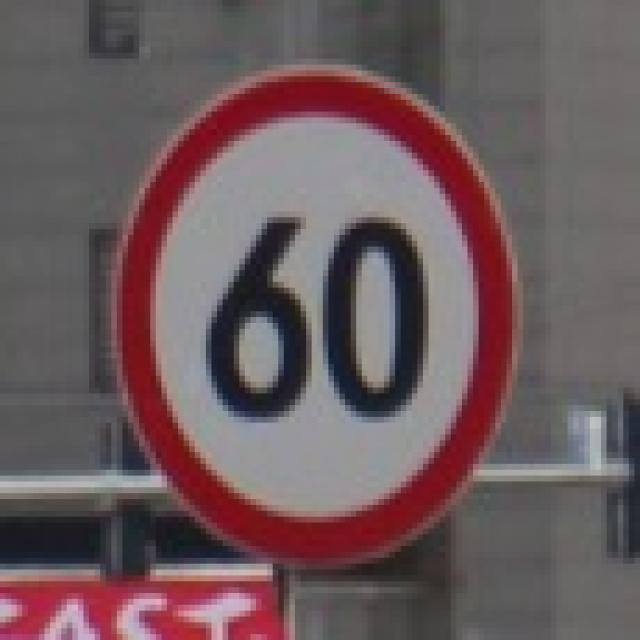Speed Limit -60-: (202, 210, 436, 431)
